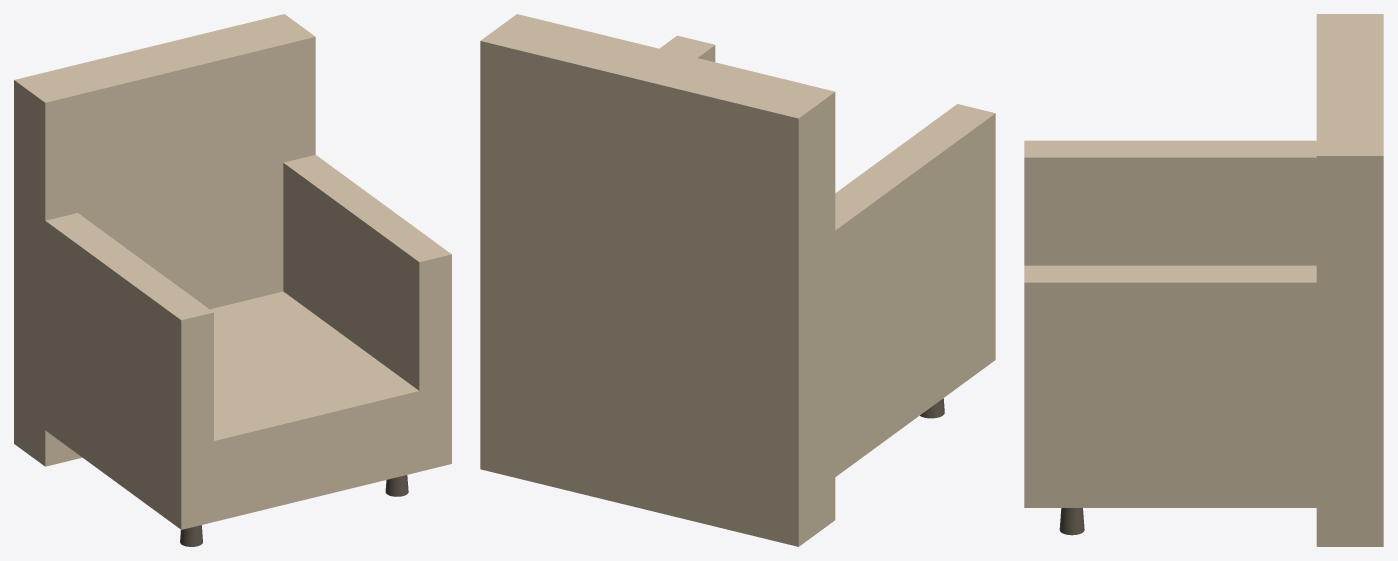
File: armchair_comfort.glb
3 views of the same model, side by side, from view 1: azimuth 30°, elevation 25°; view 2: azimuth 150°, elevation 25°; view 3: azimuth 270°, elevation 25° (orthographic). The views are drawn at different scales.
Parts seen in each view (by area): view 1: furniture; view 2: furniture; view 3: furniture.
Part boxes in pixels (x1,y1,x2,y2): furniture: (14, 14, 451, 546); furniture: (480, 14, 995, 546); furniture: (1024, 14, 1383, 546).
Size of the model in its own units: 0.7 by 0.9 by 0.75.
